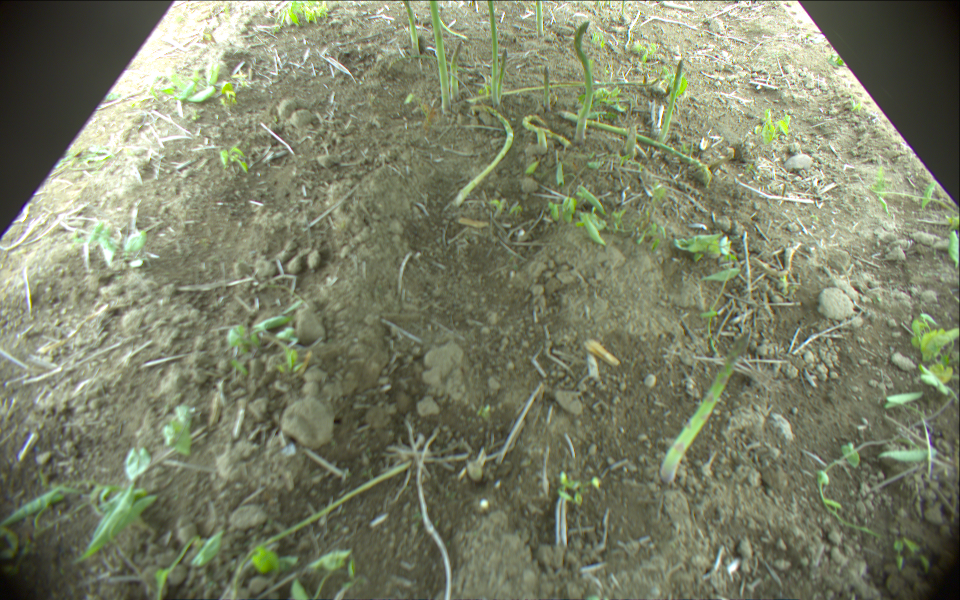aspa: (657, 330, 750, 481), (559, 110, 709, 183), (454, 103, 515, 208), (466, 77, 659, 102), (428, 1, 452, 111), (573, 20, 592, 145), (656, 61, 681, 143), (521, 113, 569, 148), (484, 1, 500, 105), (403, 1, 422, 58), (449, 41, 465, 100), (435, 14, 470, 40), (497, 48, 508, 102), (624, 124, 639, 156), (533, 1, 544, 34), (544, 68, 551, 111)
